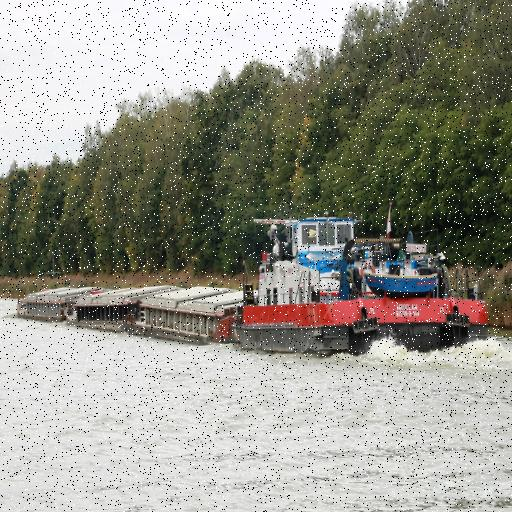tugboat: (232, 197, 492, 368)
